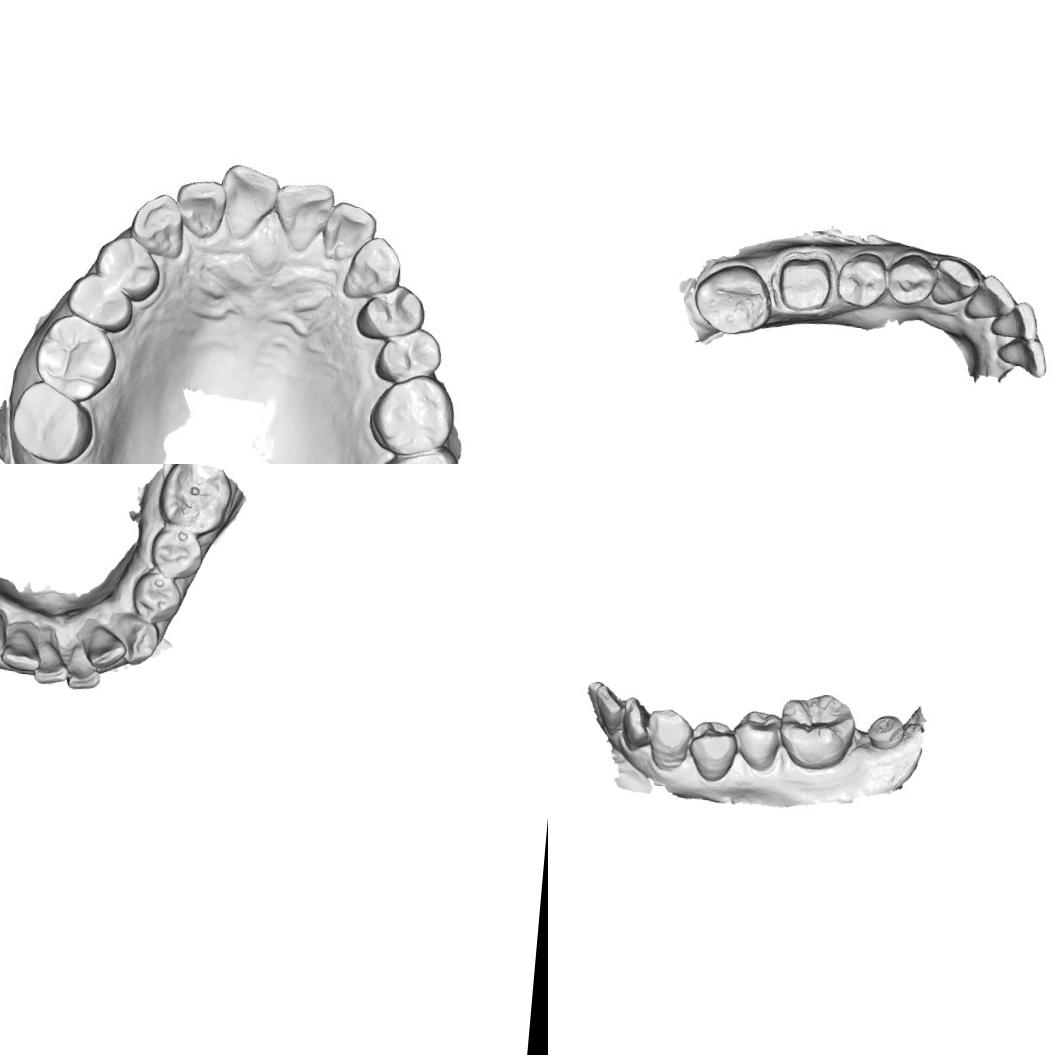canine: (343, 231, 411, 300), (131, 192, 190, 258), (642, 704, 696, 773), (110, 610, 160, 668), (928, 255, 980, 309)
crown: (770, 245, 839, 316)
implant_minus: (864, 711, 907, 752)
incisor: (219, 166, 282, 236), (272, 178, 335, 246), (321, 204, 378, 260), (174, 178, 226, 236), (963, 272, 1017, 322), (994, 331, 1050, 378), (82, 621, 129, 671), (618, 694, 656, 752), (989, 298, 1041, 340), (0, 623, 44, 672), (64, 638, 104, 691), (31, 638, 72, 686), (592, 682, 627, 737)
molar: (364, 370, 462, 456), (33, 310, 118, 404), (774, 689, 859, 775), (7, 383, 95, 464), (690, 260, 775, 337), (154, 464, 234, 538), (369, 444, 469, 464)
premolar: (374, 321, 454, 385), (59, 271, 135, 336), (91, 235, 161, 304), (356, 282, 426, 346), (685, 718, 740, 784), (730, 706, 782, 774), (147, 523, 205, 581), (833, 249, 889, 309), (884, 250, 937, 308), (128, 570, 184, 624)
